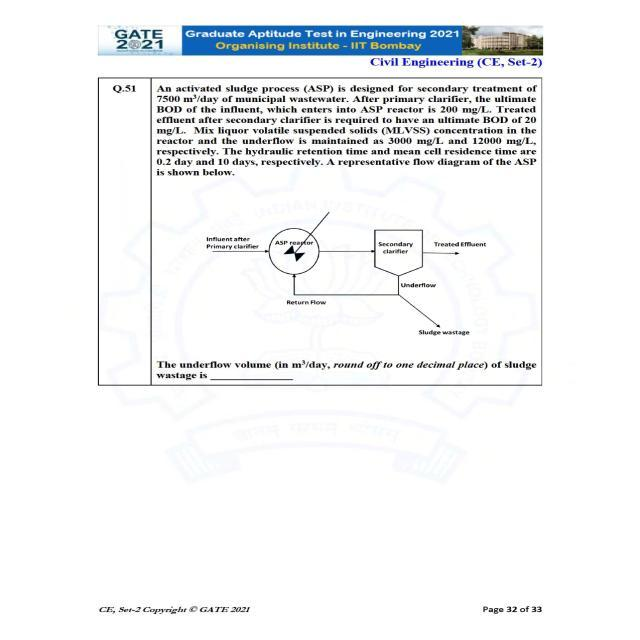Question_Answer_Block: (39, 70, 591, 428)
Question_Block: (39, 70, 591, 428)
Question_Paper_Area: (39, 70, 591, 428)
